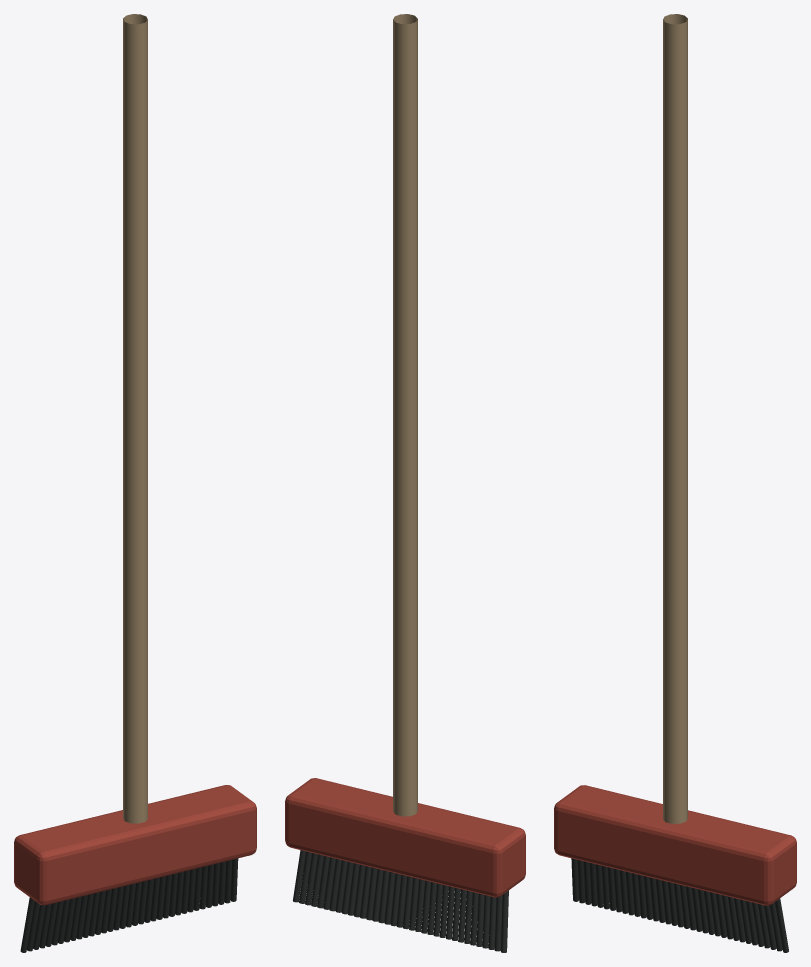
The model's file is street-broom.fbx.
3 views of the same model, side by side, from view 1: azimuth 30°, elevation 25°; view 2: azimuth 150°, elevation 25°; view 3: azimuth 330°, elevation 25° (orthographic).
Visible parts, largest first — view 1: Broom Handle, Broom Head; view 2: Broom Handle, Broom Head; view 3: Broom Handle, Broom Head.
Boxes of the visible parts, x1,y1,x2,y2 form: Broom Handle: [123, 14, 147, 823]; Broom Head: [14, 785, 256, 905]; Broom Handle: [393, 14, 417, 816]; Broom Head: [285, 778, 525, 897]; Broom Handle: [663, 14, 687, 823]; Broom Head: [554, 785, 796, 905].
Bounding box in the file's own units: 28 × 111 × 6.5.
